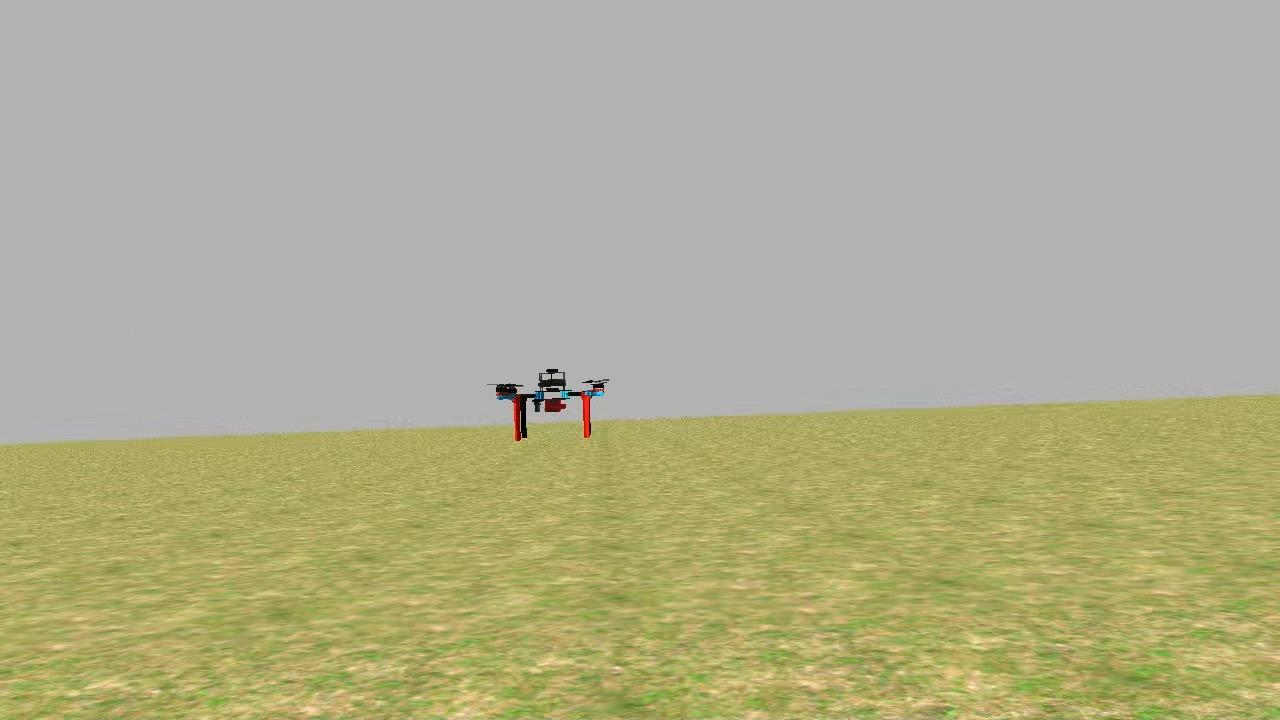UAV: (484, 363, 622, 442)
